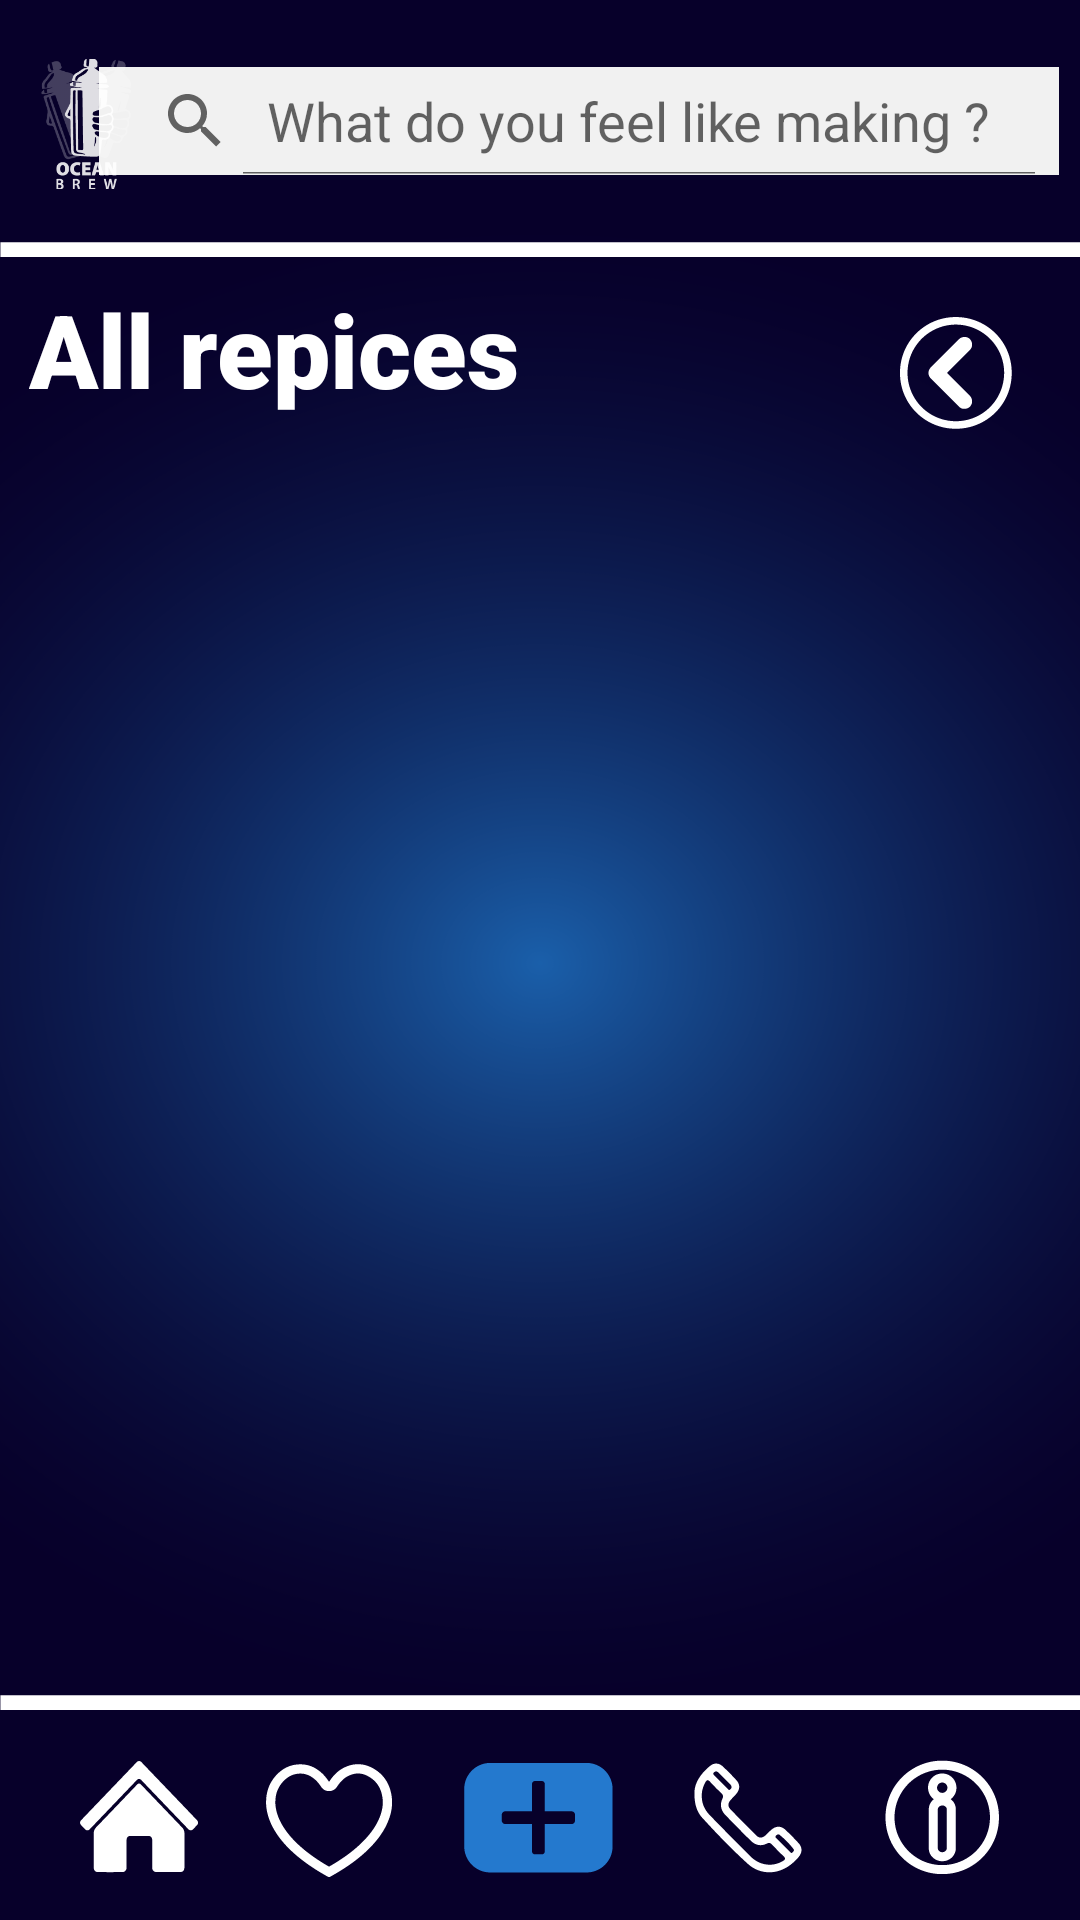

Locate icon controls on the screen. Image size 1080×1920, boxes as (x1, y1, x2, y2).
add: (464, 1763, 613, 1873)
btnback: (900, 317, 1012, 429)
contactvien: (694, 1763, 802, 1873)
heartvien: (266, 1764, 392, 1877)
homeactive: (80, 1761, 198, 1873)
infovien: (885, 1760, 999, 1874)
